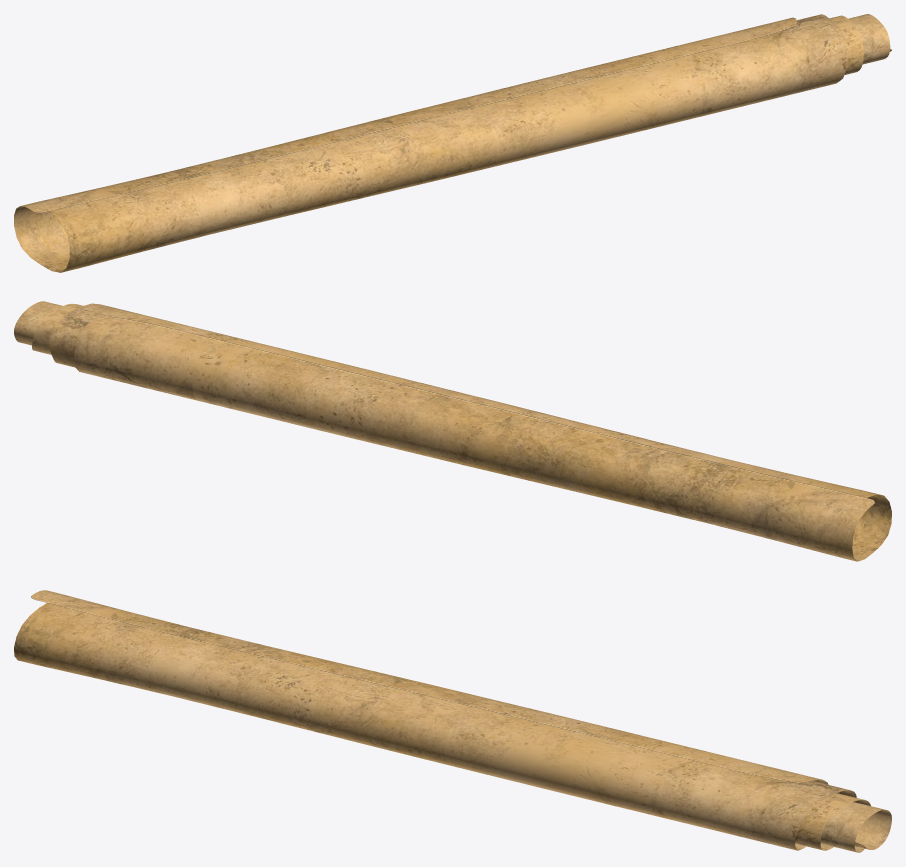
Rendered from parchment_rolled.glb.
3 renders of one model, top to bottom at view 1: azimuth 30°, elevation 25°; view 2: azimuth 150°, elevation 25°; view 3: azimuth 330°, elevation 25°, orthographic.
Visible parts, largest first — view 1: Object_2; view 2: Object_2; view 3: Object_2.
Boxes of the visible parts, x1,y1,x2,y2 form: Object_2: [14, 14, 891, 272]; Object_2: [14, 301, 891, 561]; Object_2: [14, 590, 891, 852].
Size of the model in its own units: 0.5838 by 0.0347 by 0.0569.
1 material, 1 textured.
